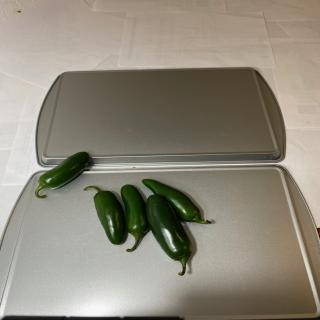Chilli: (144, 194, 193, 276), (141, 178, 211, 224), (34, 151, 90, 199), (83, 186, 126, 245), (120, 184, 150, 252)
